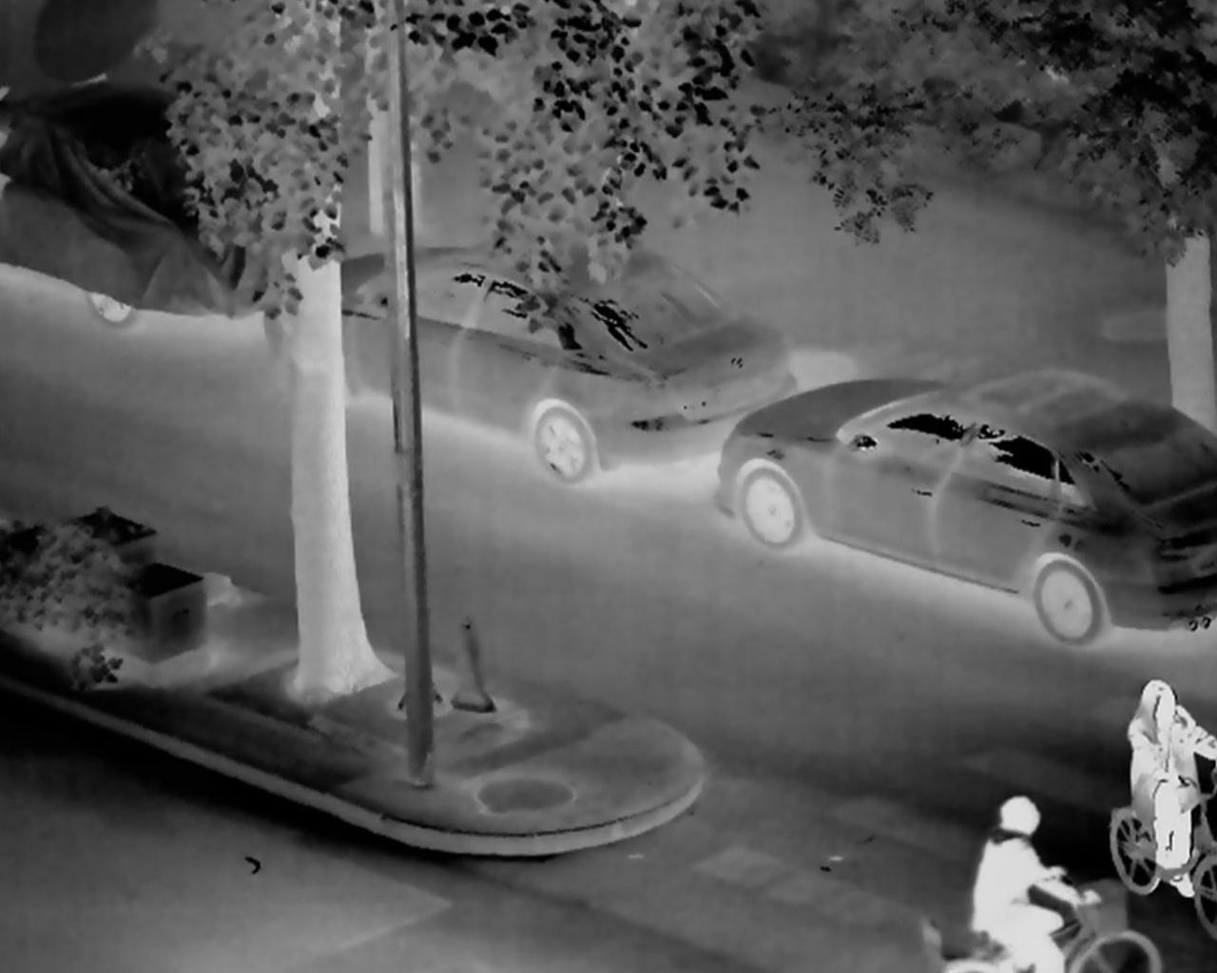person: (960, 786, 1088, 973), (1098, 674, 1217, 872)
